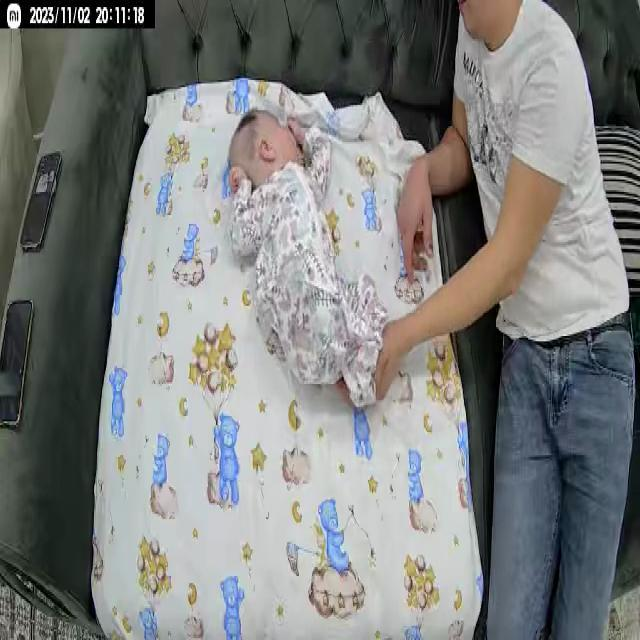baby: (224, 110, 377, 410)
